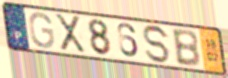6: (116, 22, 141, 60)
8: (87, 18, 113, 57)
B: (170, 28, 202, 69)
G: (28, 11, 56, 50)
S: (142, 23, 172, 64)
X: (53, 12, 88, 54)
